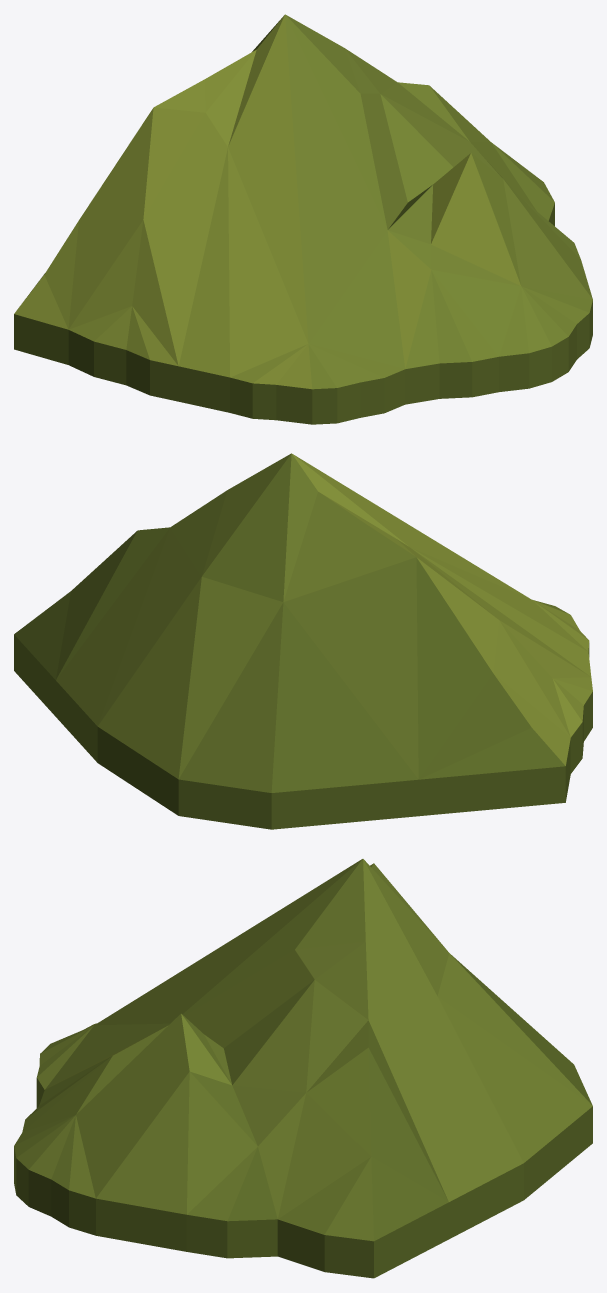
File: hill_grass.glb
3 renders of one model, top to bottom at view 1: azimuth 30°, elevation 25°; view 2: azimuth 150°, elevation 25°; view 3: azimuth 270°, elevation 25°, orthographic. The views are drawn at different scales.
Parts seen in each view (by area): view 1: hill_grass; view 2: hill_grass; view 3: hill_grass.
Boxes of the visible parts, <box> form: hill_grass: <box>14,14,592,424</box>; hill_grass: <box>14,453,592,829</box>; hill_grass: <box>14,859,592,1278</box>.
Size of the model in its own units: 2.36 by 1.15 by 2.12.
